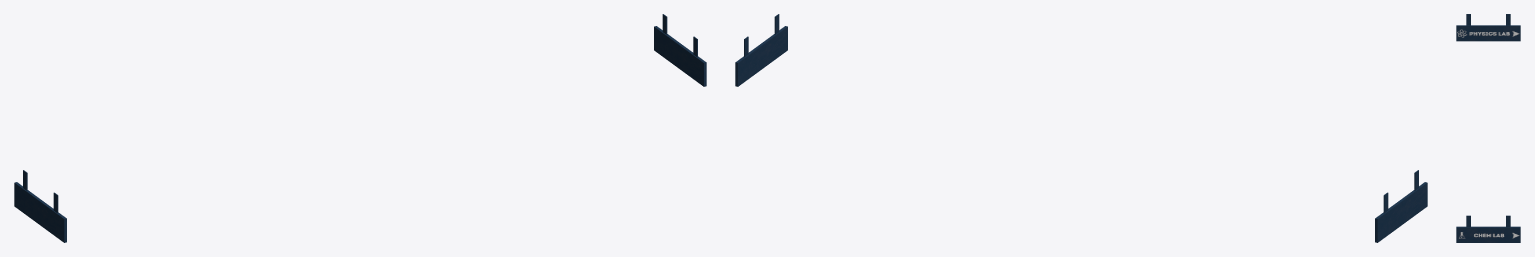
File: lab_signs.fbx
The picture shows the model from 3 angles, left to right: view 1: azimuth 30°, elevation 25°; view 2: azimuth 150°, elevation 25°; view 3: azimuth 270°, elevation 25°; orthographic projection. The views are drawn at different scales.
Parts seen in each view (by area): view 1: sign, sign1; view 2: sign, sign1; view 3: sign, sign1.
Part boxes in pixels (x1,y1,x2,y2): sign: (14,170,66,242); sign1: (654,14,706,86); sign: (1375,170,1427,242); sign1: (735,14,787,86); sign: (1456,14,1520,41); sign1: (1456,215,1520,242).
Size of the model in its own units: 902 by 55.84 by 121.
